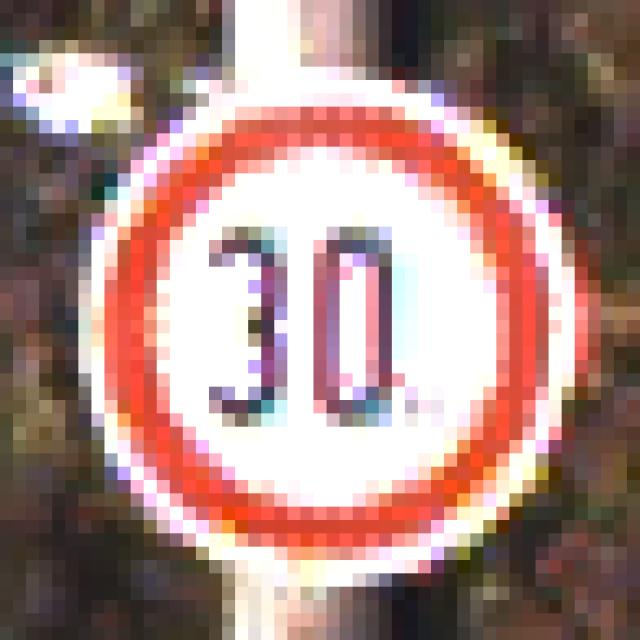Speed Limit -30-: (72, 60, 568, 567)
